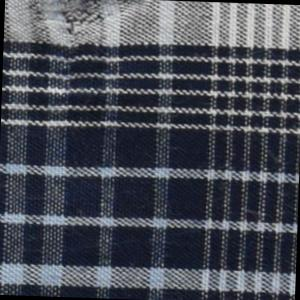Damage: (26, 1, 156, 71)
